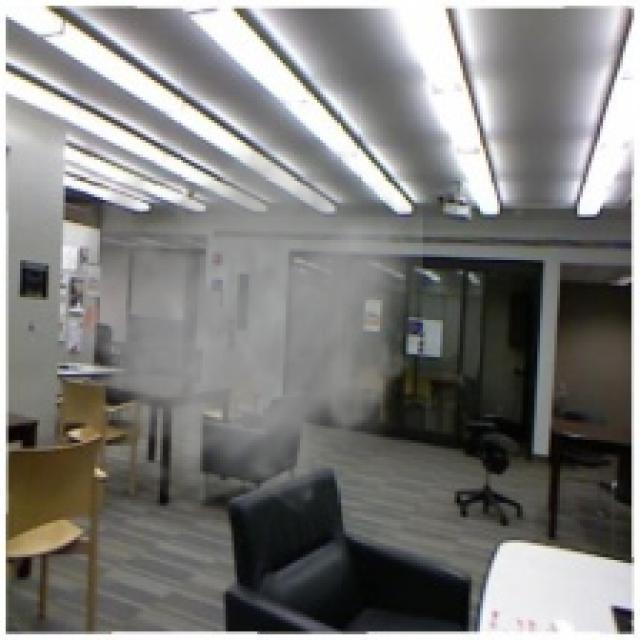Smoke: (43, 134, 423, 517)
